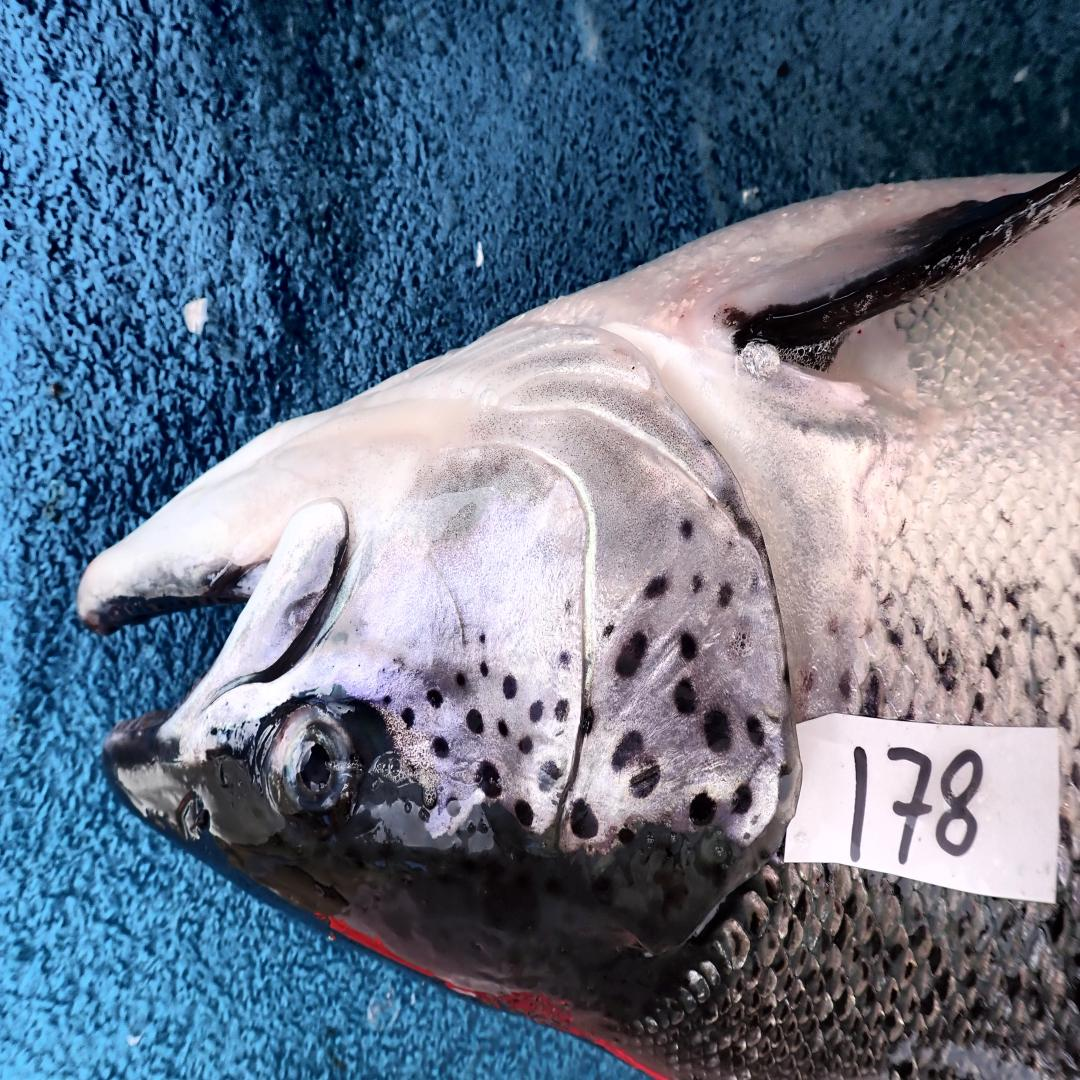spot: (616, 633, 648, 678), (612, 731, 643, 771), (570, 799, 599, 838), (705, 709, 730, 751), (631, 765, 660, 799), (778, 762, 799, 807), (477, 762, 502, 799), (538, 759, 563, 793), (690, 793, 717, 824), (675, 678, 696, 714), (732, 782, 753, 816), (643, 574, 669, 599), (747, 714, 764, 745), (515, 802, 534, 827), (717, 582, 734, 608), (466, 709, 483, 734), (681, 633, 696, 661), (477, 624, 491, 652), (502, 675, 517, 700), (555, 698, 570, 723), (582, 706, 595, 734), (529, 700, 544, 723), (563, 596, 578, 619), (432, 737, 449, 757), (426, 689, 443, 709), (445, 796, 462, 816), (401, 706, 416, 728), (690, 571, 705, 593), (679, 520, 694, 540), (557, 650, 572, 669), (519, 737, 534, 754), (751, 568, 759, 593), (603, 622, 614, 638), (498, 720, 508, 737), (456, 672, 466, 686), (481, 661, 489, 678), (382, 695, 392, 706)
